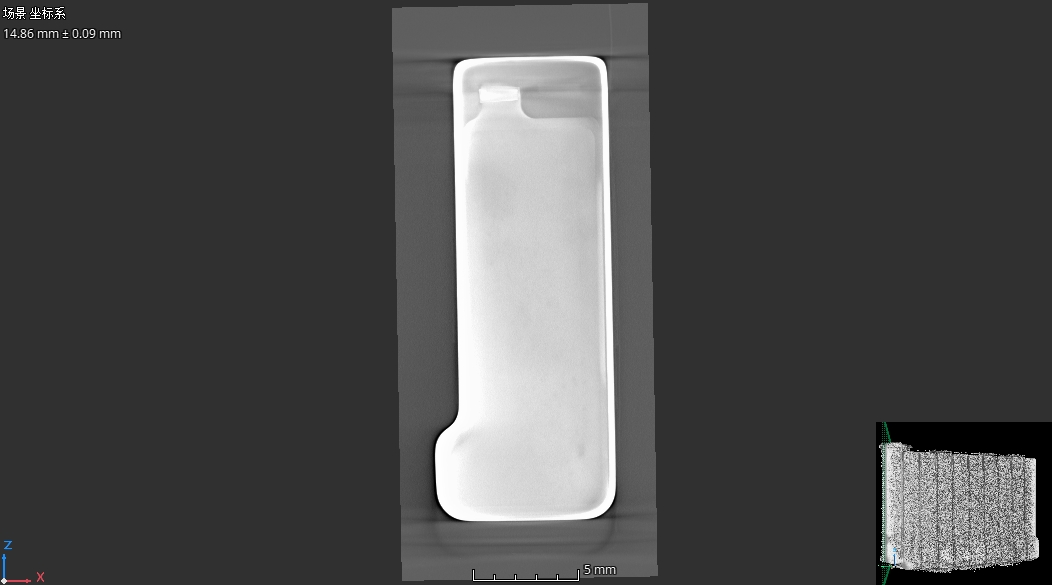dark: (573, 441, 590, 462)
